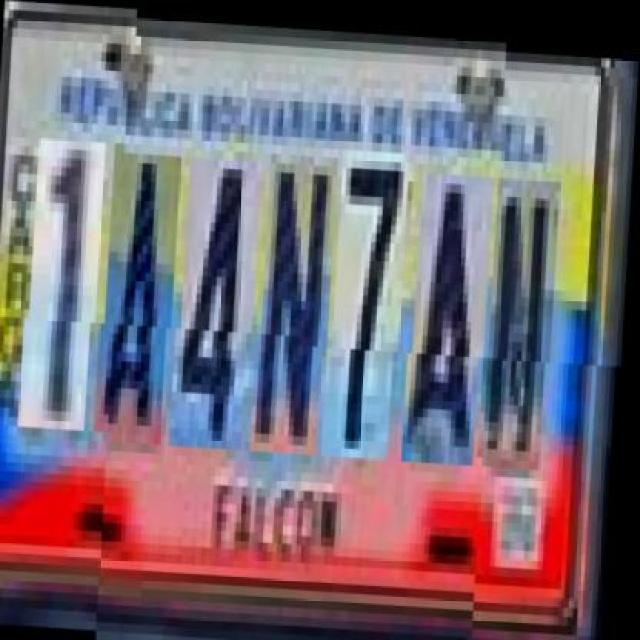1: (27, 146, 107, 439)
4: (179, 155, 263, 447)
7: (330, 143, 412, 454)
a: (412, 167, 496, 459), (103, 150, 183, 442)
n: (260, 150, 340, 452), (487, 161, 562, 454)
